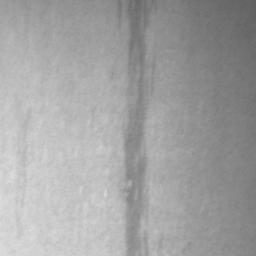Inclusion: (123, 0, 150, 256)
